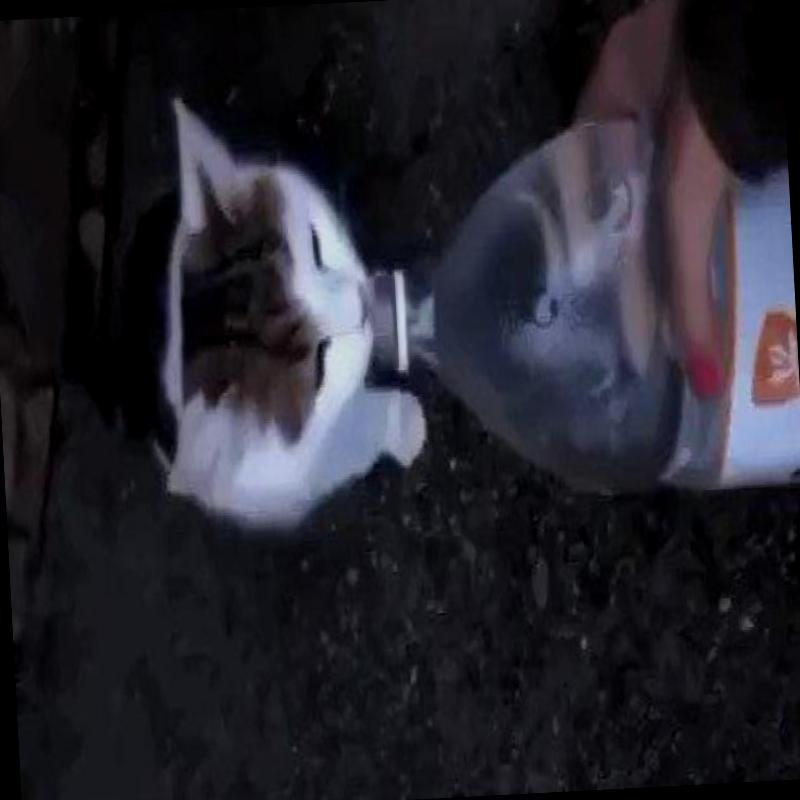botella: (358, 106, 800, 509)
